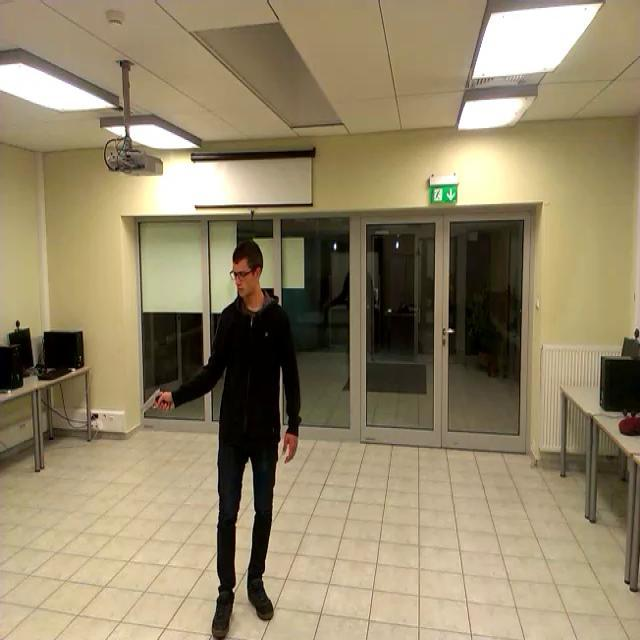Gun: (136, 380, 178, 428)
